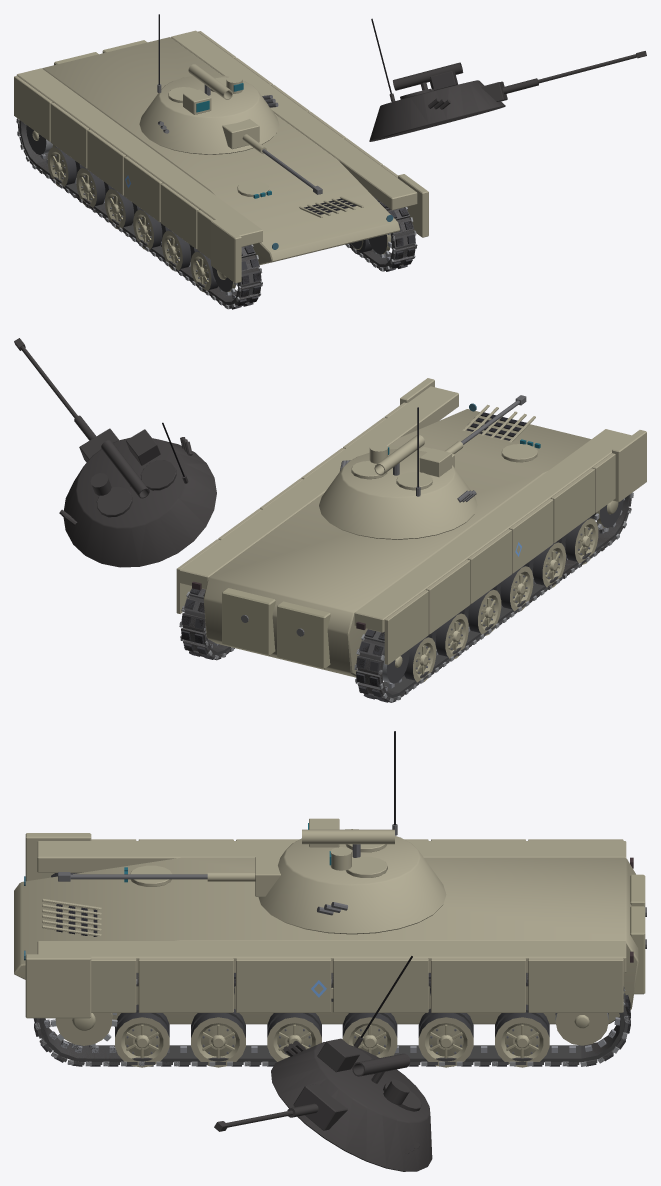
File: ifv__bmp_2_sarath.glb
The picture shows the model from 3 angles, top to bottom: view 1: azimuth 30°, elevation 25°; view 2: azimuth 150°, elevation 25°; view 3: azimuth 270°, elevation 25°; orthographic projection. The views are drawn at different scales.
Parts seen in each view (by area): view 1: Hull_Mesh, Wreck, Turret_Mesh, Track_L_Mesh, Track_R_Mesh, Gun_Mesh, Wheel_L1_Mesh, Wheel_L4_Mesh, Wheel_L0_Mesh, Wheel_L3_Mesh, Wheel_L2_Mesh, Wheel_L5_Mesh (+1 smaller); view 2: Hull_Mesh, Wreck, Turret_Mesh, Track_L_Mesh, Track_R_Mesh, Wheel_L2_Mesh, Wheel_L4_Mesh, Wheel_L5_Mesh, Wheel_L3_Mesh, Wheel_L1_Mesh, Wheel_L0_Mesh, Gun_Mesh (+2 smaller); view 3: Hull_Mesh, Wreck, Turret_Mesh, Track_R_Mesh, Wheel_R1_Mesh, Wheel_R0_Mesh, Wheel_R5_Mesh, Wheel_R4_Mesh, Gun_Mesh, Wheel_R2_Mesh, Wheel_R3_Mesh, Sprocket_R_Mesh (+1 smaller).
Boxes of the visible parts, x1,y1,x2,y2 form: Hull_Mesh: (14, 30, 428, 283); Wreck: (17, 18, 646, 308); Turret_Mesh: (139, 14, 279, 154); Track_L_Mesh: (16, 118, 262, 309); Track_R_Mesh: (346, 197, 416, 271); Gun_Mesh: (222, 119, 322, 194); Wheel_L1_Mesh: (76, 167, 112, 208); Wheel_L4_Mesh: (162, 230, 198, 271); Wheel_L0_Mesh: (47, 146, 84, 186); Wheel_L3_Mesh: (133, 209, 169, 249); Wheel_L2_Mesh: (105, 188, 141, 229); Wheel_L5_Mesh: (190, 251, 218, 292); Hull_Mesh: (176, 378, 646, 677); Wreck: (14, 338, 633, 702); Turret_Mesh: (319, 407, 477, 539); Track_L_Mesh: (354, 492, 633, 702); Track_R_Mesh: (179, 588, 234, 659); Wheel_L2_Mesh: (459, 589, 501, 635); Wheel_L4_Mesh: (524, 542, 565, 587); Wheel_L5_Mesh: (556, 518, 598, 564); Wheel_L3_Mesh: (492, 566, 533, 612); Wheel_L1_Mesh: (427, 613, 468, 659); Wheel_L0_Mesh: (403, 637, 436, 682); Gun_Mesh: (419, 395, 526, 467); Hull_Mesh: (14, 833, 646, 1024); Wreck: (34, 873, 630, 1171); Turret_Mesh: (258, 731, 446, 934); Track_R_Mesh: (33, 973, 630, 1066); Wheel_R1_Mesh: (418, 1008, 473, 1067); Wheel_R0_Mesh: (495, 1004, 549, 1067); Wheel_R5_Mesh: (115, 1004, 169, 1067); Wheel_R4_Mesh: (191, 1009, 245, 1067); Gun_Mesh: (58, 856, 280, 896); Wheel_R2_Mesh: (342, 1013, 397, 1057); Wheel_R3_Mesh: (267, 1013, 321, 1061); Sprocket_R_Mesh: (50, 1013, 117, 1048).
Size of what is drawn, in the model's own units: 8.29 by 3.17 by 7.06.
